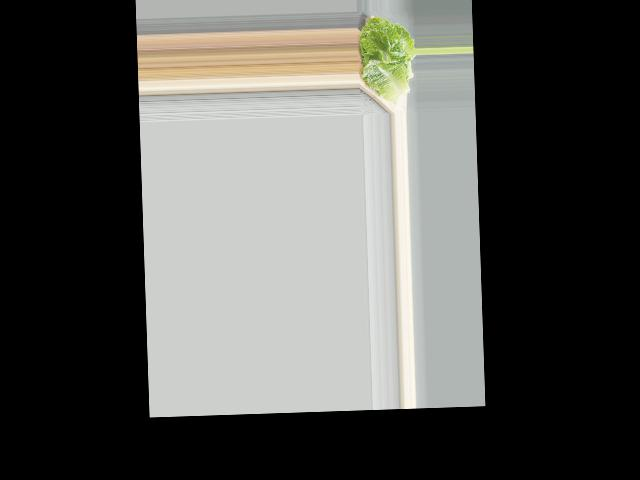lettuce: (356, 12, 416, 102)
